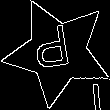P_S: (35, 24, 80, 80)
